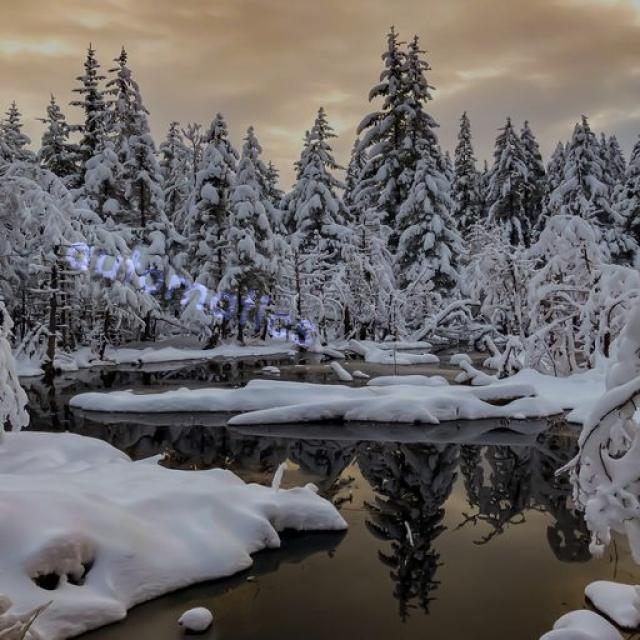watermark: (51, 226, 346, 356)
